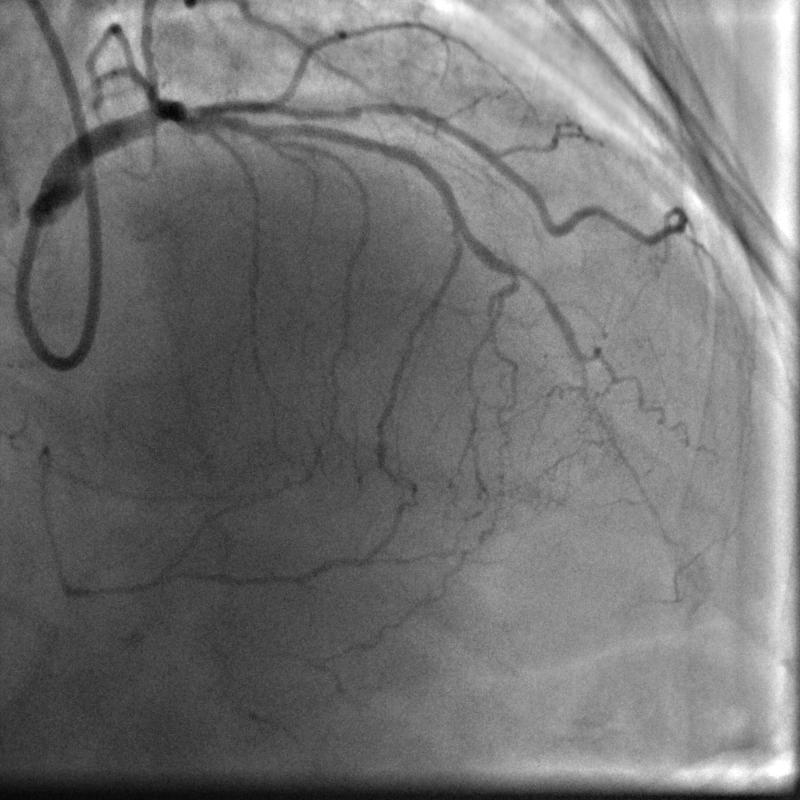Stenosis: (127, 85, 172, 141)
